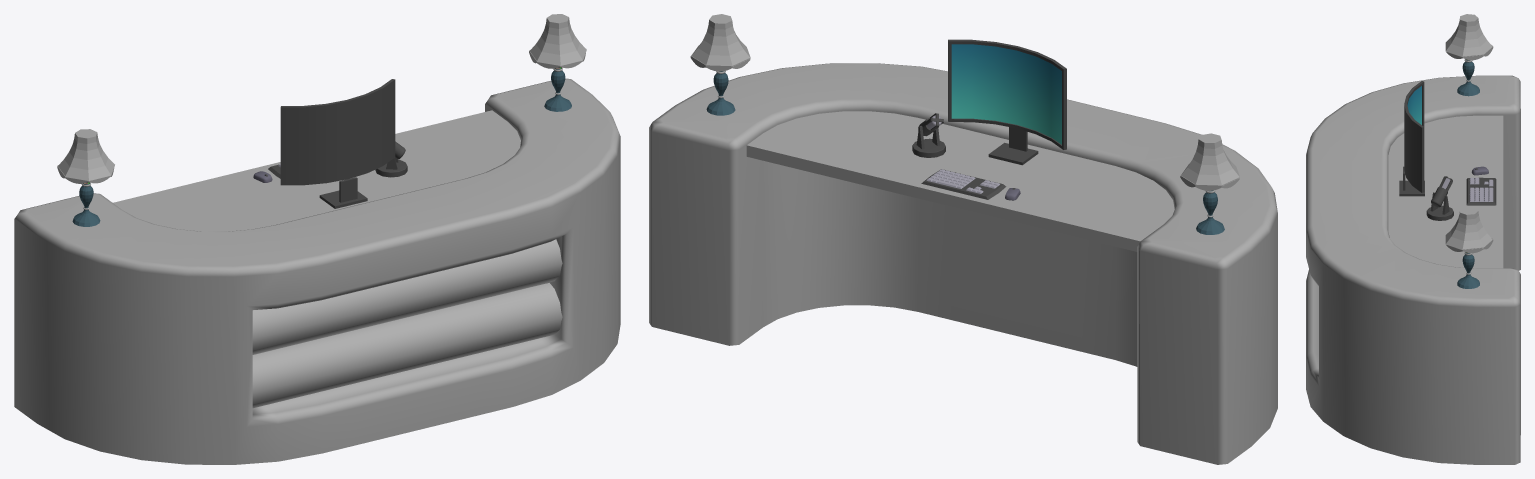
File: Counter_Table_01.fbx
The picture shows the model from 3 angles, left to right: view 1: azimuth 30°, elevation 25°; view 2: azimuth 150°, elevation 25°; view 3: azimuth 270°, elevation 25°; orthographic projection. The views are drawn at different scales.
Parts seen in each view (by area): view 1: Table_01, Computer_03, Table_Lamp_07, Table_Lamp_08; view 2: Table_01, Computer_03, Table_Lamp_07, Table_Lamp_08; view 3: Table_01, Computer_03, Table_Lamp_08, Table_Lamp_07.
Boxes of the visible parts, box(x1,y1,x2,y2) form: Table_01: box(14, 78, 620, 464); Computer_03: box(253, 79, 407, 208); Table_Lamp_07: box(529, 14, 586, 111); Table_Lamp_08: box(57, 129, 114, 226); Table_01: box(649, 63, 1277, 464); Computer_03: box(912, 39, 1066, 200); Table_Lamp_07: box(690, 14, 750, 115); Table_Lamp_08: box(1180, 133, 1240, 234); Table_01: box(1306, 75, 1520, 464); Computer_03: box(1399, 81, 1496, 220); Table_Lamp_08: box(1445, 14, 1493, 96); Table_Lamp_07: box(1445, 207, 1493, 288).
Size of the model in its own units: 271 by 134 by 108.
Materials: 6 (2 with a texture image).
